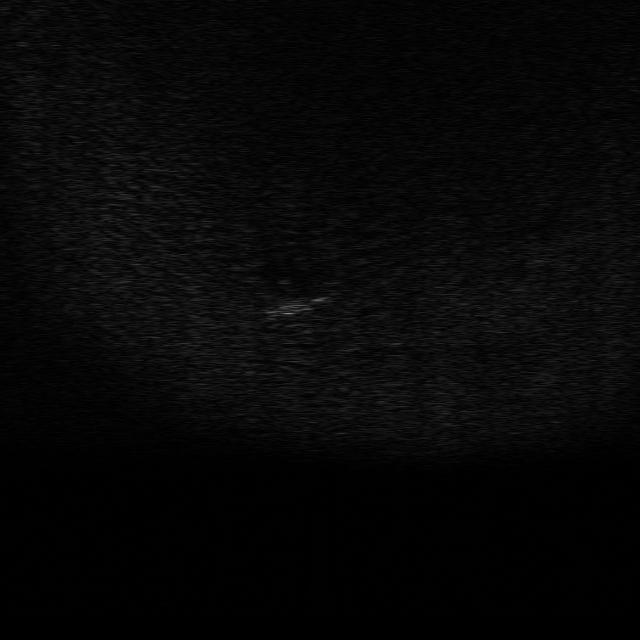plane: (254, 289, 331, 326)
